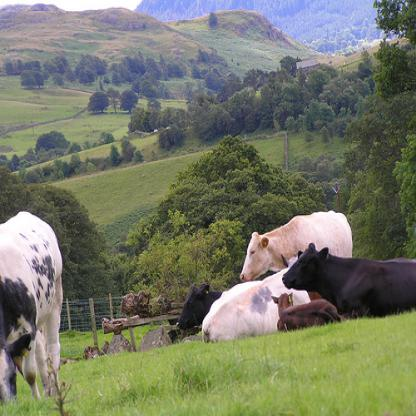cow: (0, 209, 63, 400), (284, 243, 415, 321), (200, 250, 311, 340), (240, 212, 352, 281), (271, 290, 341, 332), (176, 282, 223, 332)
